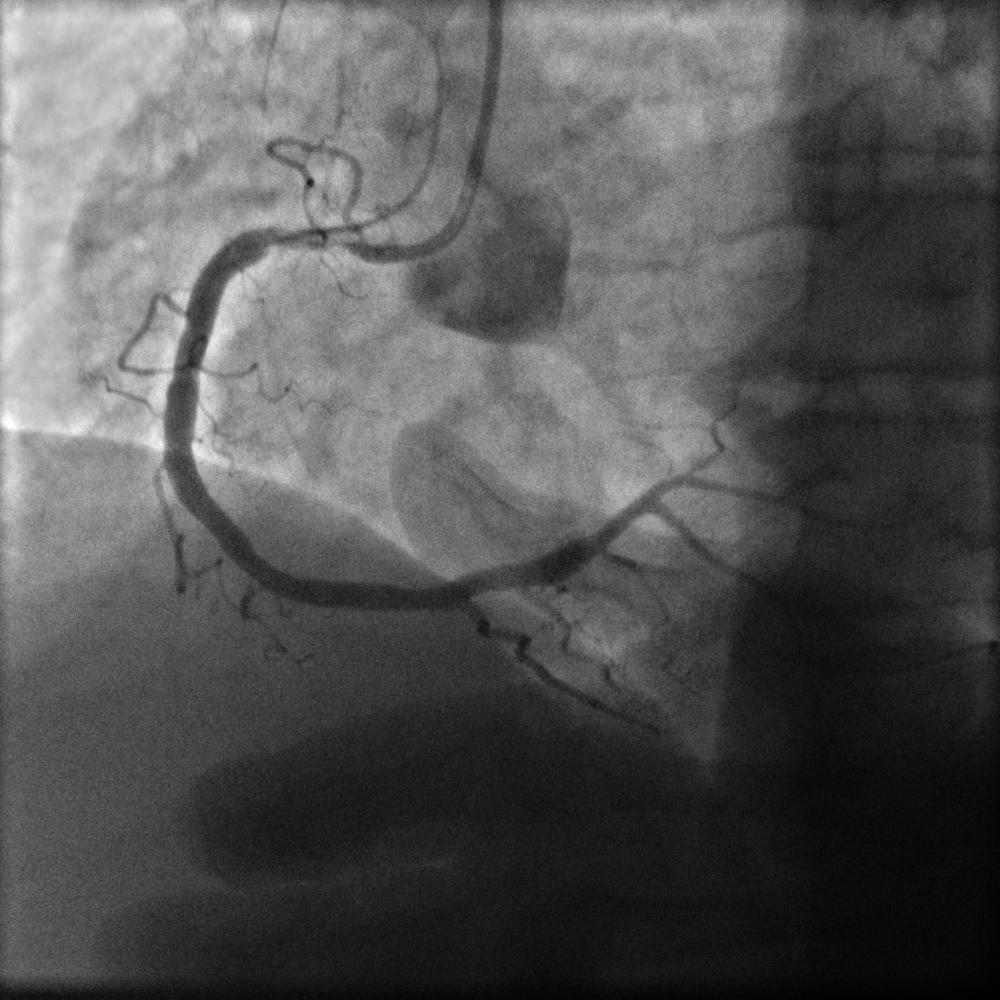Stenosis: (262, 217, 355, 267)
